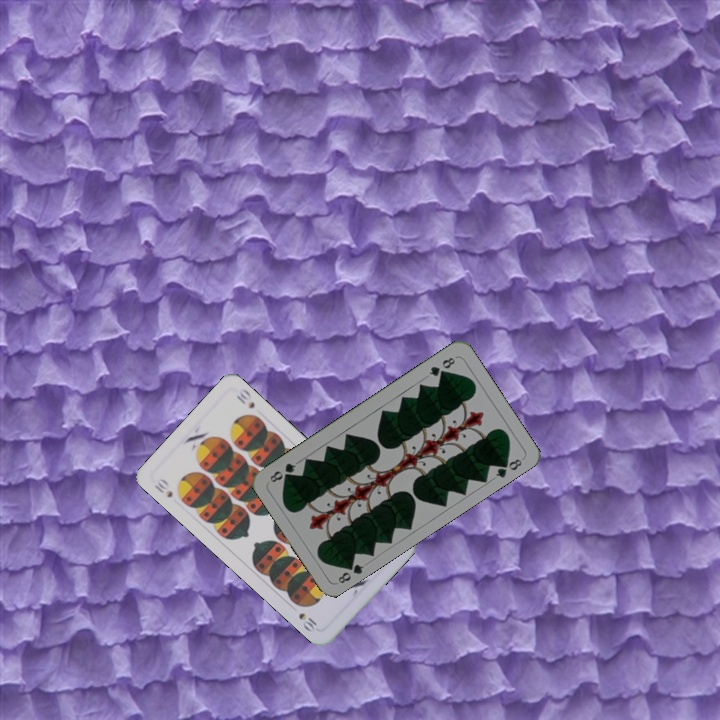G8: (334, 557, 367, 586), (425, 353, 458, 379)
S10: (150, 474, 175, 500)
